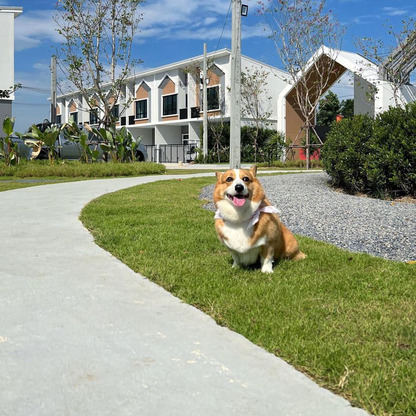Corgi: (194, 162, 332, 279)
